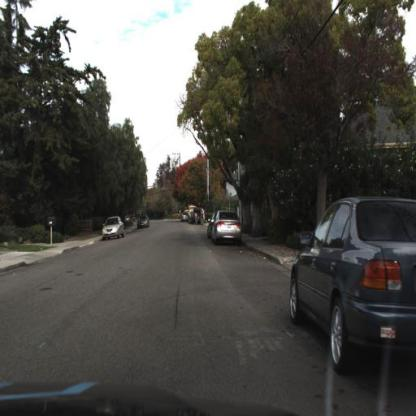car: (289, 197, 416, 379), (213, 207, 247, 249), (99, 214, 126, 243), (135, 213, 151, 234), (192, 209, 203, 225)
pedestrian: (204, 210, 208, 224), (195, 214, 199, 226)
